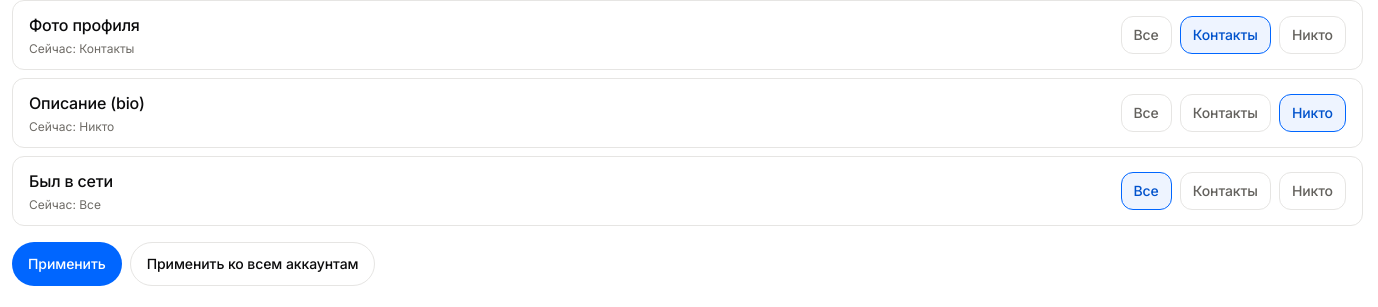
a rejected write re-reads the levels instead of leaving pre-write values
Expected: the text "Фото профиля" is shown, left=29, top=15, right=140, bottom=35
Step 1. Click the button "Применить" → (67, 264), box left=12, top=242, right=122, bottom=286
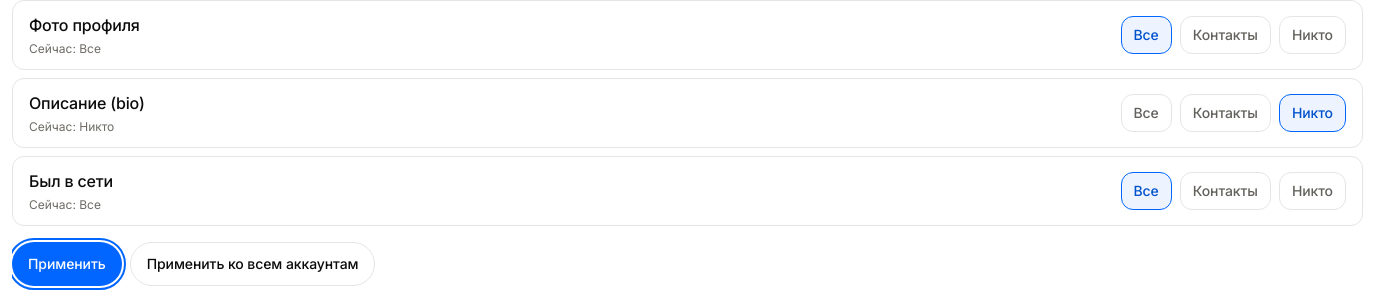
Expected: the text "Сейчас: Все" below "Фото профиля" is shown, left=29, top=41, right=101, bottom=56
